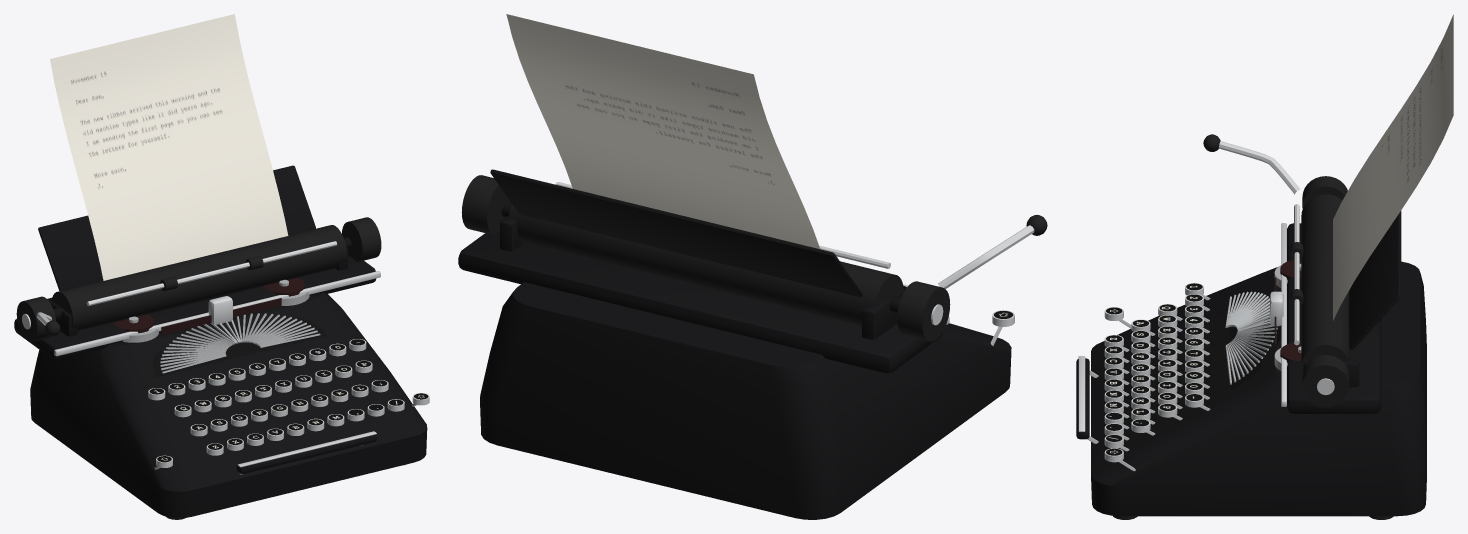
File: typewriter.glb
3 renders of one model, left to right at view 1: azimuth 30°, elevation 25°; view 2: azimuth 150°, elevation 25°; view 3: azimuth 270°, elevation 25°, orthographic. The views are drawn at different scales.
Visible parts, largest first — view 1: Typewriter; view 2: Typewriter; view 3: Typewriter.
Part boxes in pixels (box(x1,y1,x2,y2)): Typewriter: box(14, 14, 429, 519); Typewriter: box(458, 14, 1047, 519); Typewriter: box(1076, 14, 1453, 519).
Bounding box in the file's own units: 0.4405 × 0.385 × 0.3387.
Materials: 9 (2 with a texture image).
